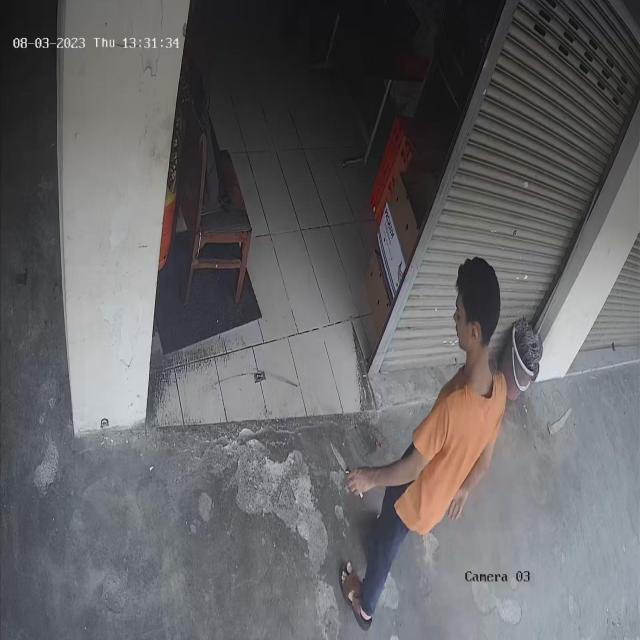Knife: (318, 428, 372, 500)
